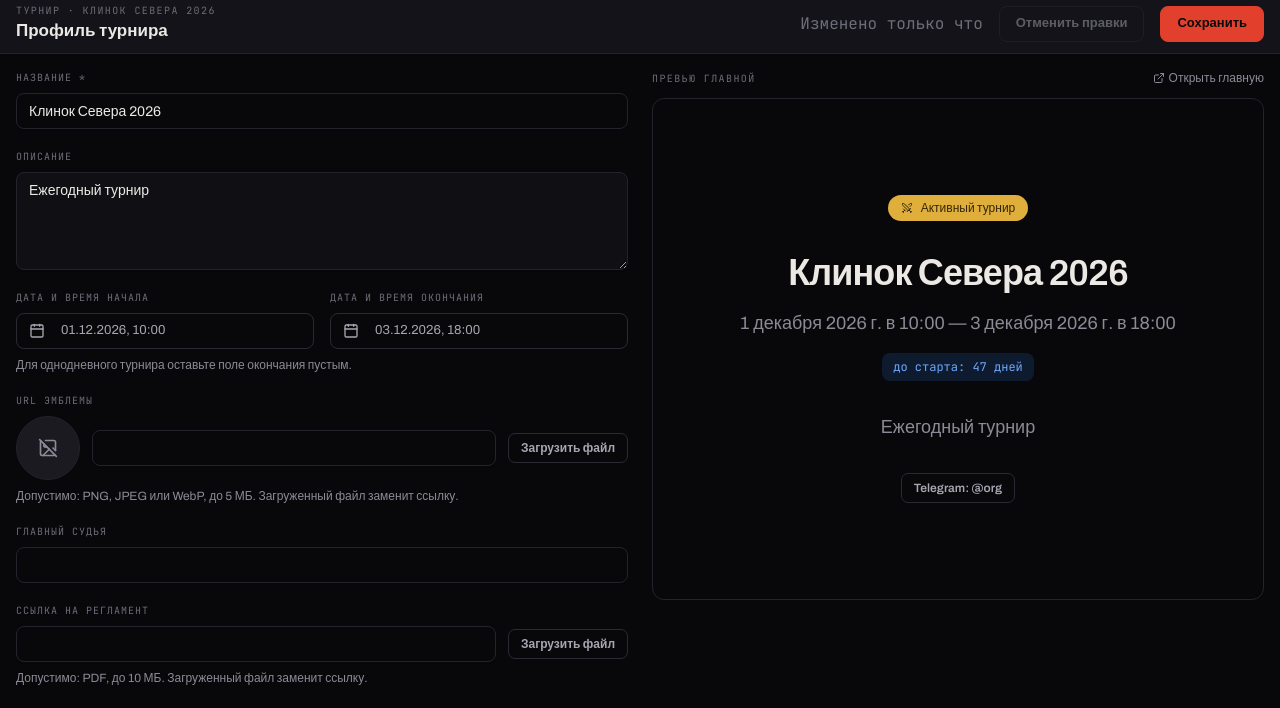
Test: TournamentScreen (spec 0029) › an invalid regulations URL blocks saving with an inline error and no request (spec 0037, FR-20)
Type "not-a-url" into the field labelled "Ссылка на регламент" at (256, 644), box 16,626 -> 496,662
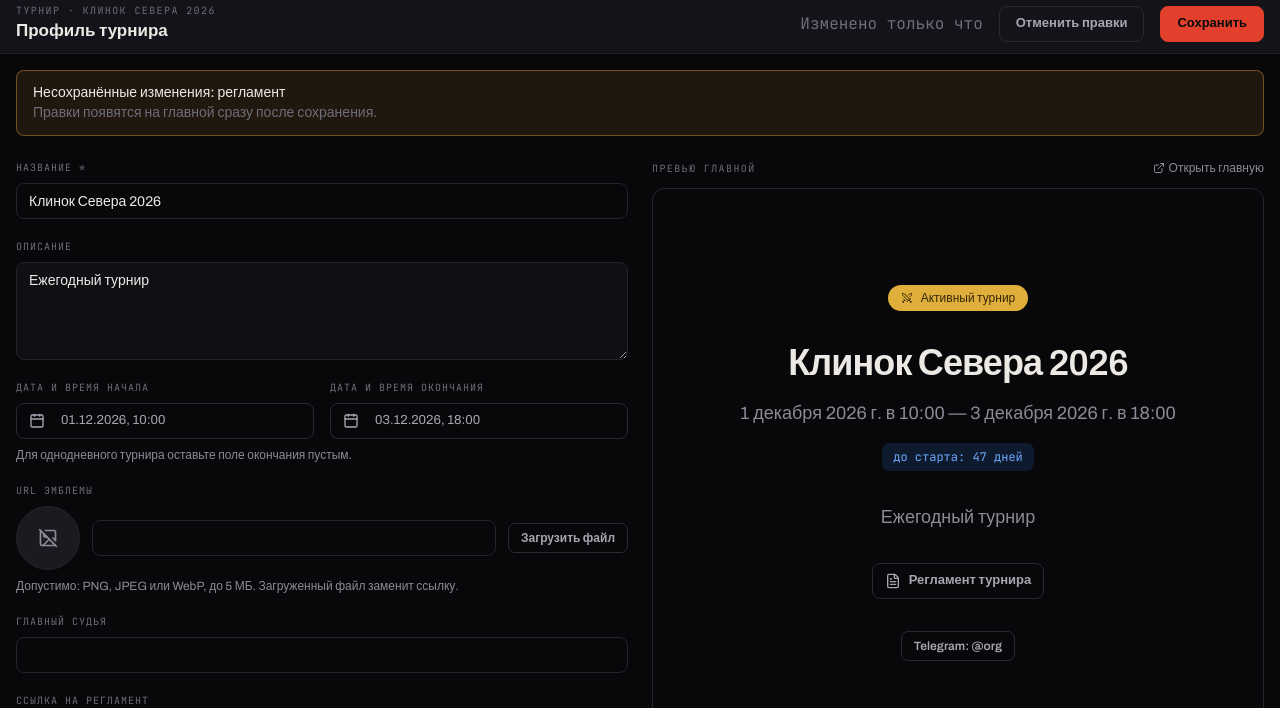
Click the button "Сохранить" at (1212, 24), box 1160,6 -> 1264,42
(page scrolled)
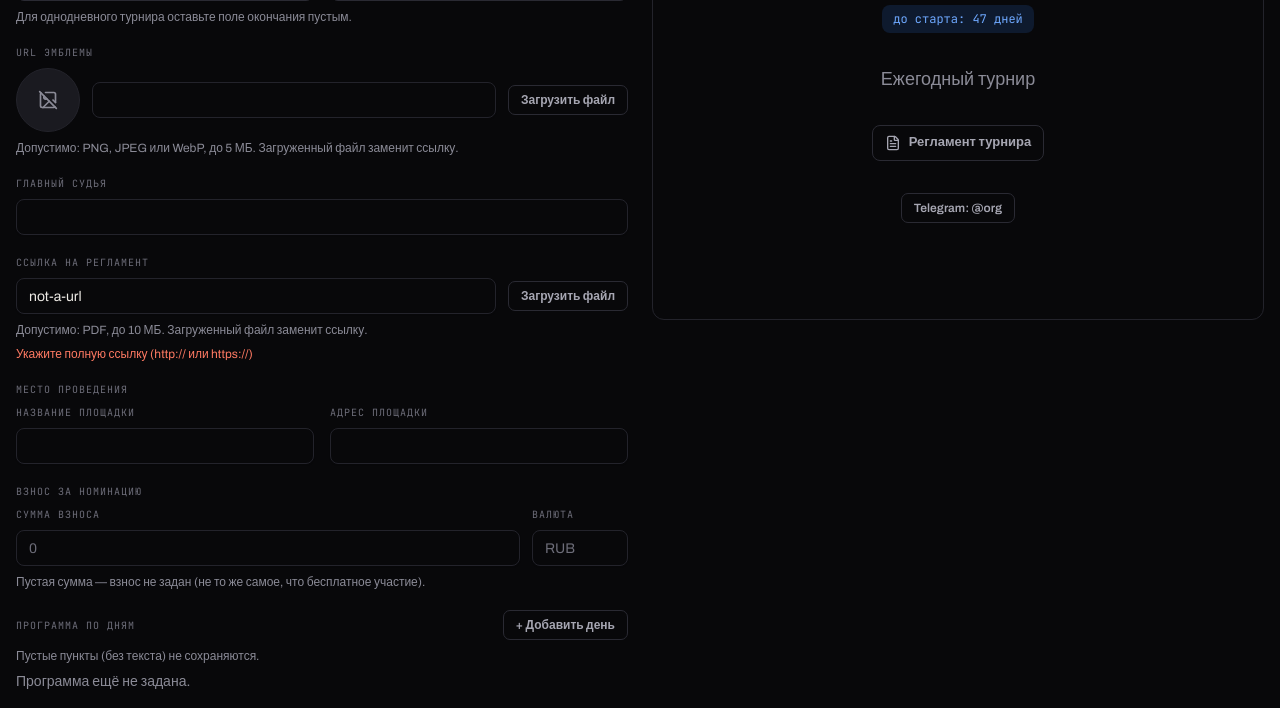
Expected: the text "Укажите полную ссылку (http:// или https://)" is shown, 16,347 -> 253,361
